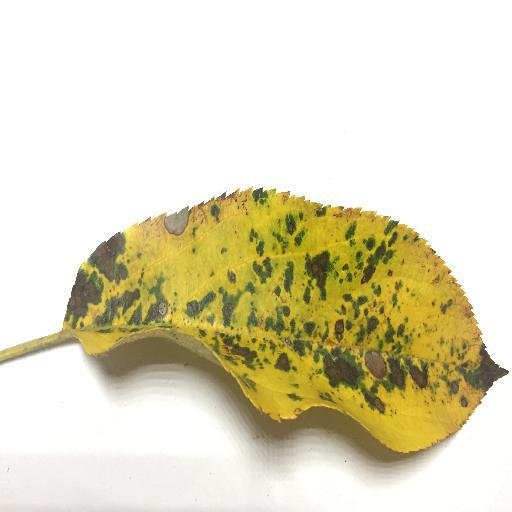Brown_Spot: (1, 170, 510, 462)
